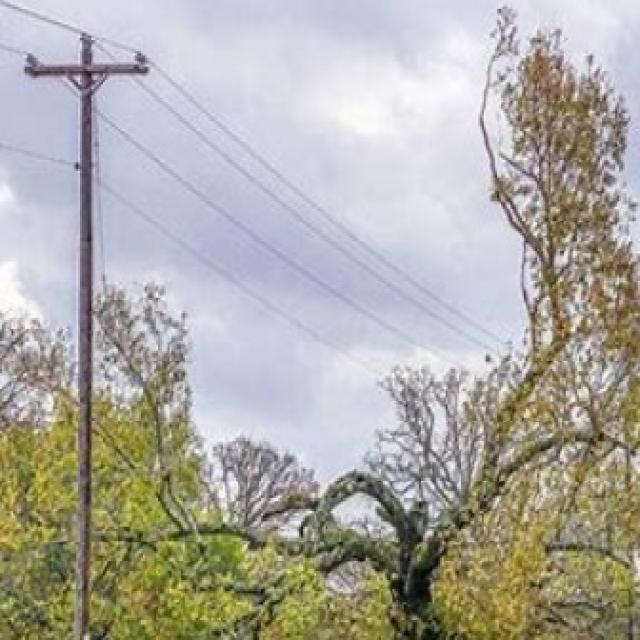utility poles: (24, 20, 152, 639)
